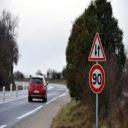speed_limit_90: (89, 64, 105, 93)
